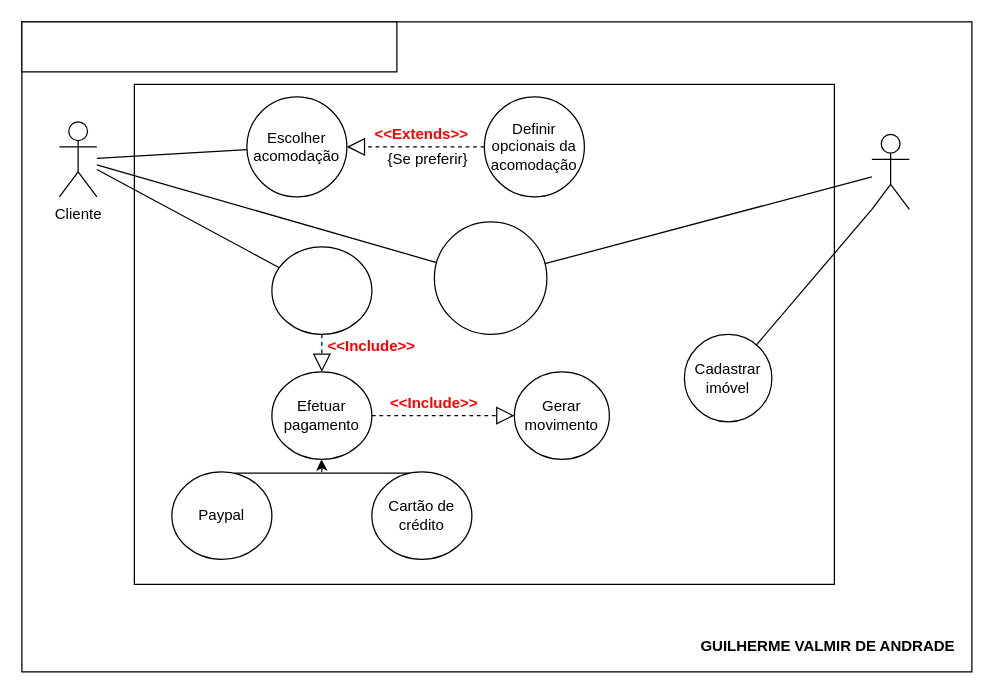
Some shapes in this 994 by 694 pixel diagram are drawn without their labels. Here are the shapes that lost their labels. From the top down, the centre of each, then its label:
At (209,46): "UC - AIRBNB".
At (890,171): "Anfitrião".
At (321,290): "Alugar imóvel".
At (490,277): "Definir regras de hospedagem".
